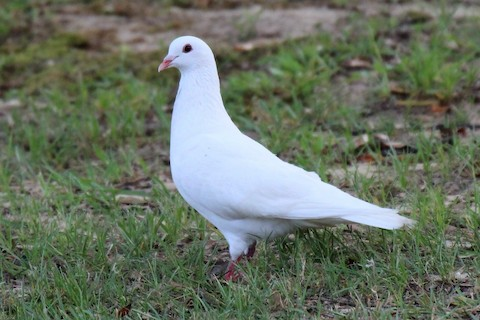pigeon: (152, 30, 425, 288)
